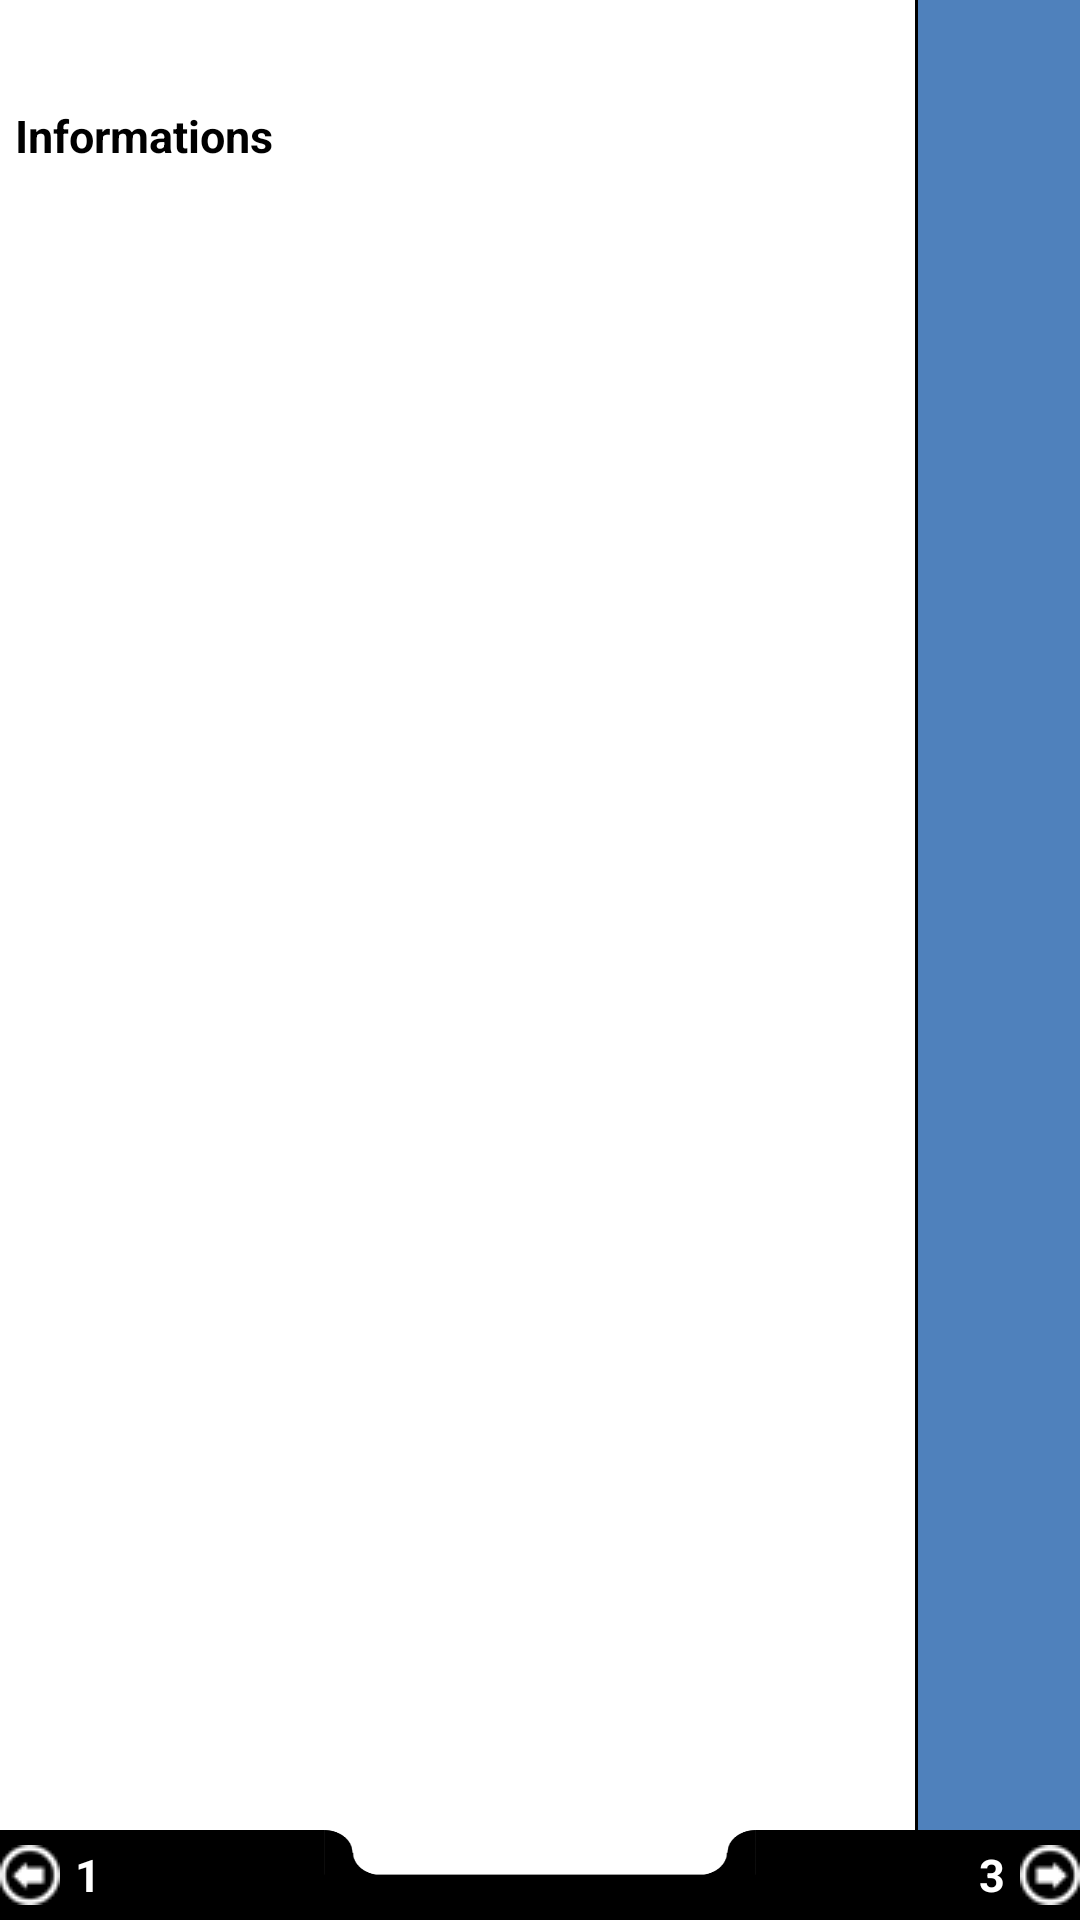

Locate icon controls on the screen. Image size 1080 x 1920, boxes as (x1, y1, x2, y2).
next: (1020, 1845, 1080, 1905)
previous: (0, 1845, 60, 1905)
